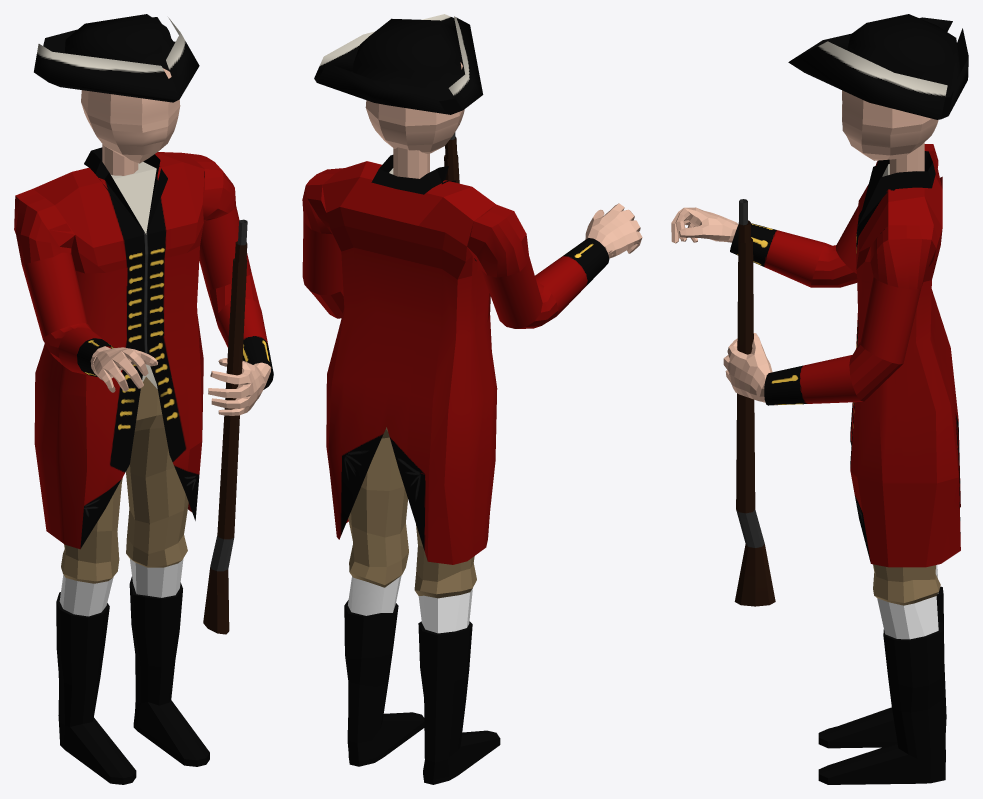
The model's file is soldierComplete.obj.
3 renders of one model, left to right at view 1: azimuth 30°, elevation 25°; view 2: azimuth 150°, elevation 25°; view 3: azimuth 270°, elevation 25°, orthographic.
Visible parts, largest first — view 1: MaleBase1:hunte_basehunterBodyLegsFeet_base1 group8, group8 Pirate:Mesh, group8 group7, group8 MaleBase:hunterHead_basehunte_base pasted__male group, group8 pasted__male group MaleBase:hunte_basehunterHandsArms_bas, group8 pasted__male group MaleBase:hunte_basehunterNeck_base; view 2: MaleBase1:hunte_basehunterBodyLegsFeet_base1 group8, group8 Pirate:Mesh, group8 MaleBase:hunterHead_basehunte_base pasted__male group, group8 pasted__male group MaleBase:hunte_basehunterHandsArms_bas, group8 pasted__male group MaleBase:hunte_basehunterNeck_base; view 3: MaleBase1:hunte_basehunterBodyLegsFeet_base1 group8, group8 Pirate:Mesh, group8 group7, group8 MaleBase:hunterHead_basehunte_base pasted__male group, group8 pasted__male group MaleBase:hunte_basehunterHandsArms_bas, group8 pasted__male group MaleBase:hunte_basehunterNeck_base.
Part boxes in pixels (x1,y1,x2,y2): MaleBase1:hunte_basehunterBodyLegsFeet_base1 group8: (14,147,273,784); group8 Pirate:Mesh: (34,14,199,102); group8 group7: (203,219,247,634); group8 MaleBase:hunterHead_basehunte_base pasted__male group: (81,68,180,163); group8 pasted__male group MaleBase:hunte_basehunterHandsArms_bas: (90,346,271,415); group8 pasted__male group MaleBase:hunte_basehunterNeck_base: (102,144,138,175); MaleBase1:hunte_basehunterBodyLegsFeet_base1 group8: (302,155,609,784); group8 Pirate:Mesh: (314,14,483,114); group8 MaleBase:hunterHead_basehunte_base pasted__male group: (365,62,464,153); group8 pasted__male group MaleBase:hunte_basehunterHandsArms_bas: (585,203,642,258); group8 pasted__male group MaleBase:hunte_basehunterNeck_base: (393,147,429,178); MaleBase1:hunte_basehunterBodyLegsFeet_base1 group8: (730,144,960,784); group8 Pirate:Mesh: (788,14,968,119); group8 group7: (734,199,775,606); group8 MaleBase:hunterHead_basehunte_base pasted__male group: (842,90,938,160); group8 pasted__male group MaleBase:hunte_basehunterHandsArms_bas: (671,207,777,405); group8 pasted__male group MaleBase:hunte_basehunterNeck_base: (889,142,924,174).
Bounding box in the file's own units: 2.4 × 6.87 × 2.53.
